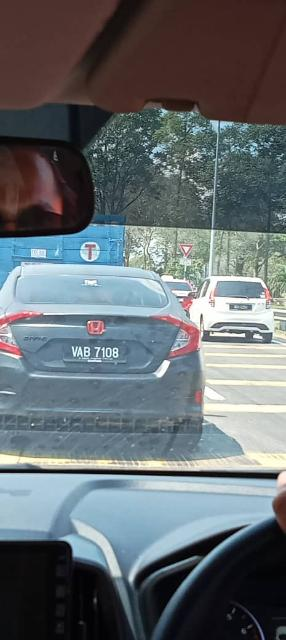License_Plate: (61, 337, 137, 367)
car: (3, 260, 204, 447)
